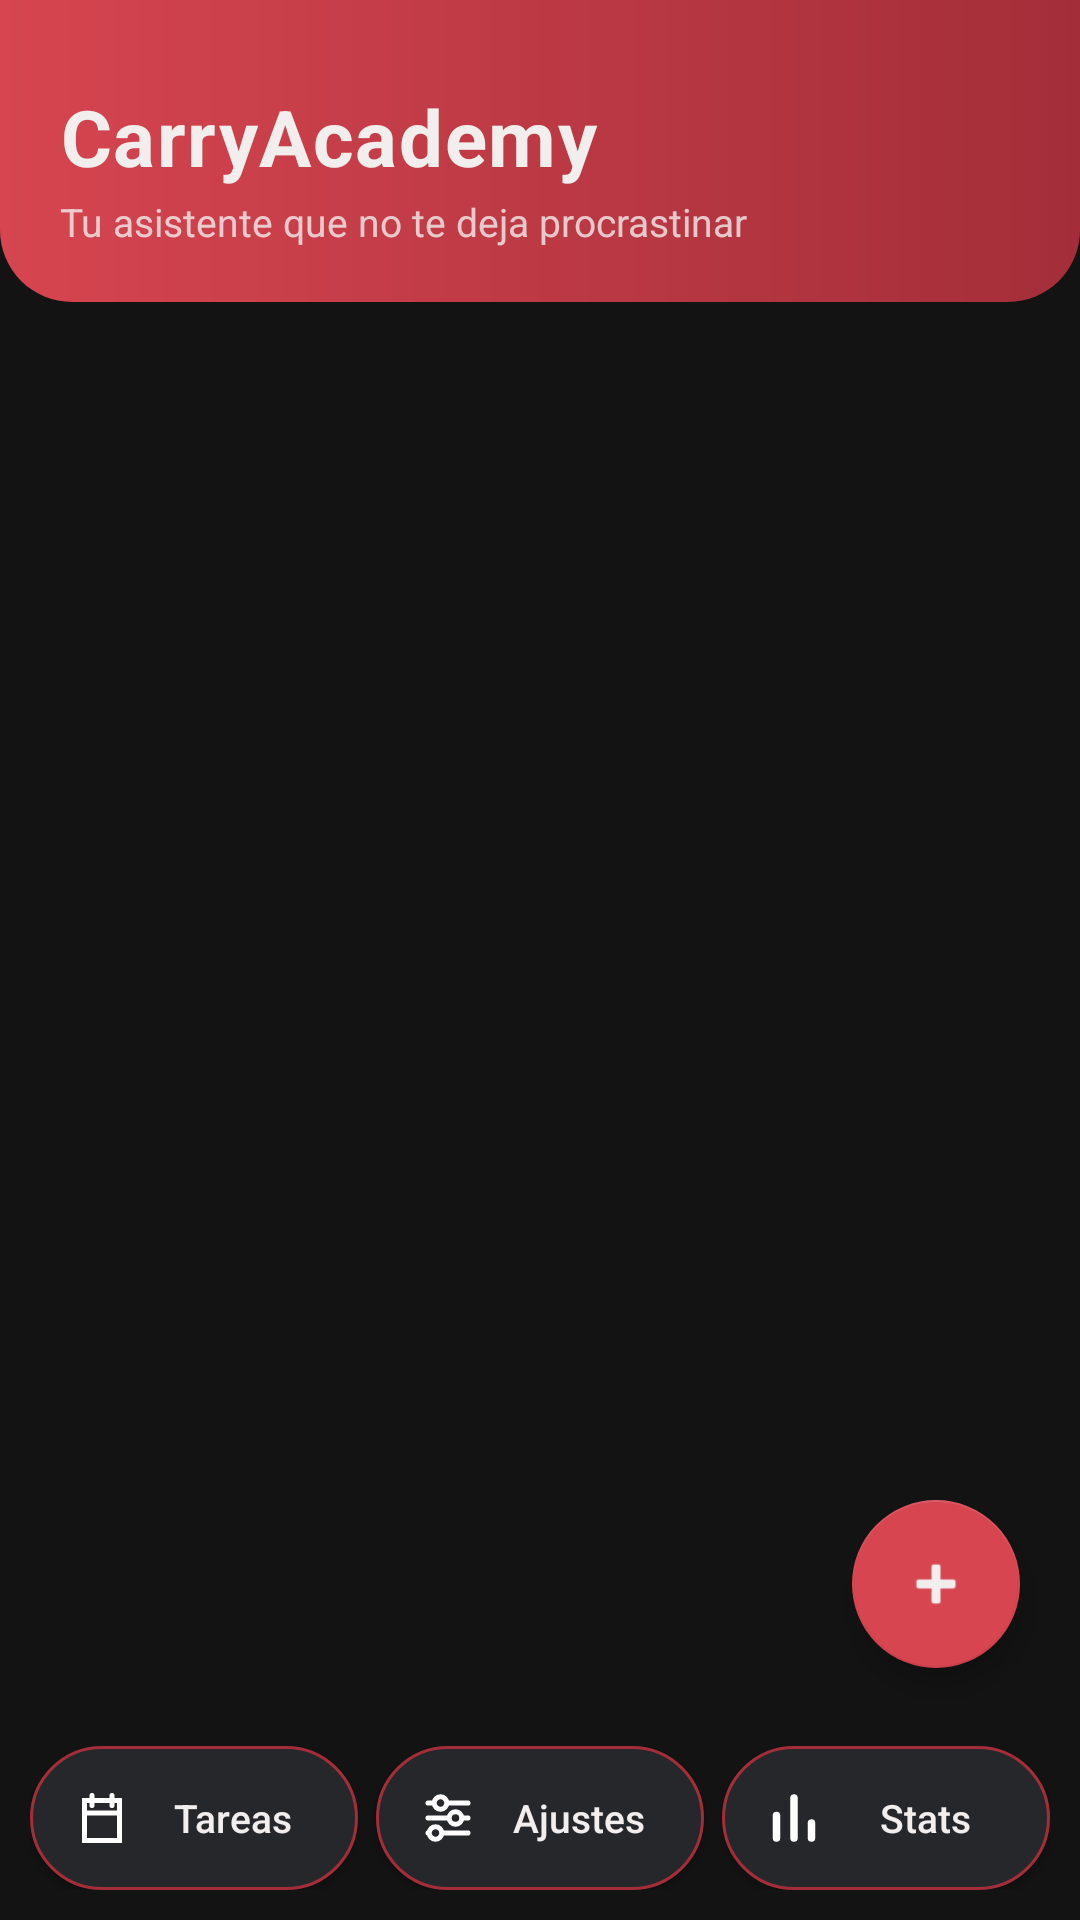

Icon click points for this 1080px×1920px phone screenshot, format (x,y):
Nueva materia: (936,1584)
